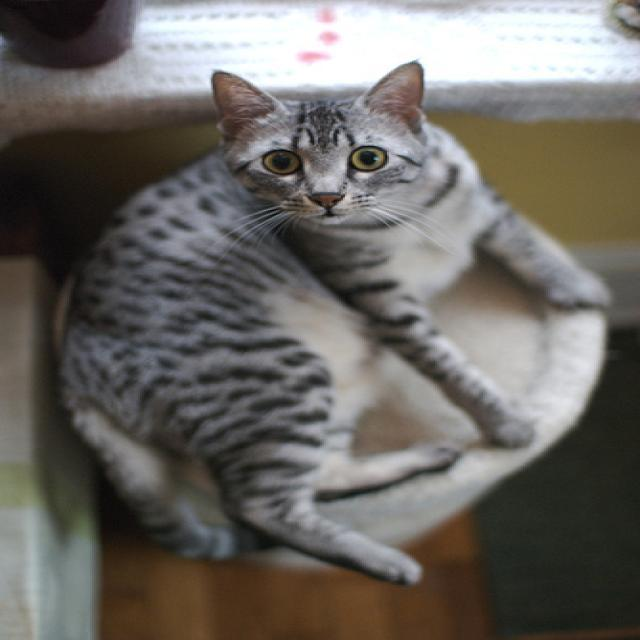Egyptian_Mau: (209, 59, 429, 223)
